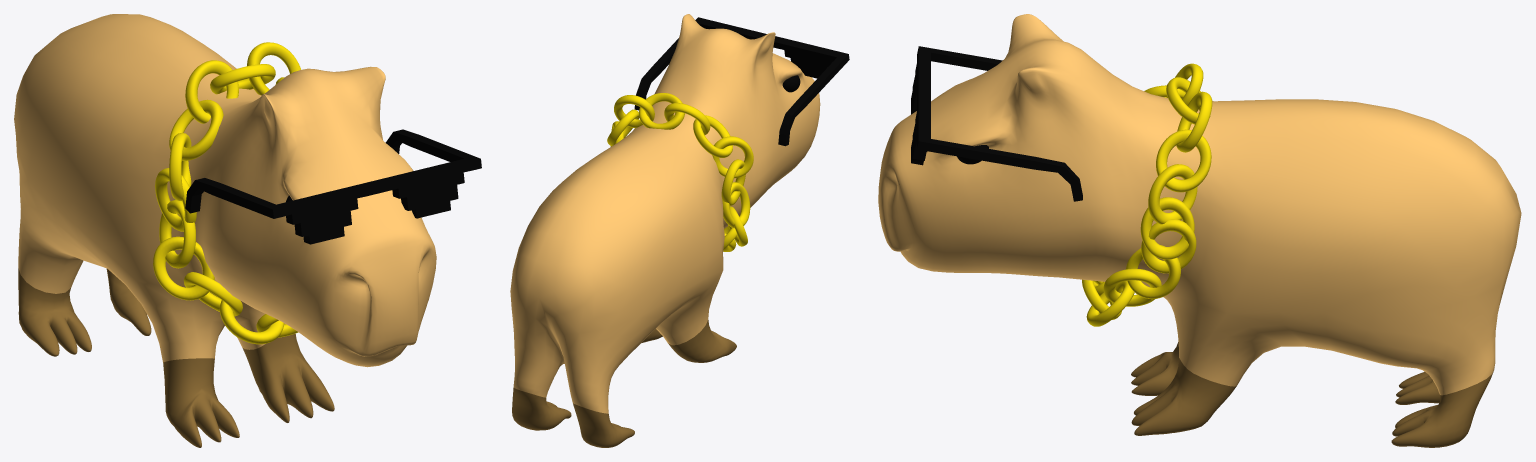
The model's file is OctaviustheGangster.fbx.
The picture shows the model from 3 angles, left to right: view 1: azimuth 30°, elevation 25°; view 2: azimuth 150°, elevation 25°; view 3: azimuth 270°, elevation 25°; orthographic projection. The views are drawn at different scales.
Visible parts, largest first — view 1: body, pTorus20, thugGlassesModel:pCube4; view 2: body, pTorus20, thugGlassesModel:pCube4; view 3: body, pTorus20, thugGlassesModel:pCube4.
Boxes of the visible parts, x1=… form: body: x1=14, y1=14, x2=436, y2=447; pTorus20: x1=153, y1=42, x2=300, y2=344; thugGlassesModel:pCube4: x1=185, y1=129, x2=481, y2=244; body: x1=510, y1=14, x2=820, y2=447; pTorus20: x1=607, y1=93, x2=753, y2=251; thugGlassesModel:pCube4: x1=634, y1=17, x2=849, y2=146; body: x1=878, y1=14, x2=1521, y2=447; pTorus20: x1=1082, y1=63, x2=1212, y2=326; thugGlassesModel:pCube4: x1=911, y1=46, x2=1082, y2=201.
Size of the model in its own units: 2.42 by 4.52 by 6.91.
